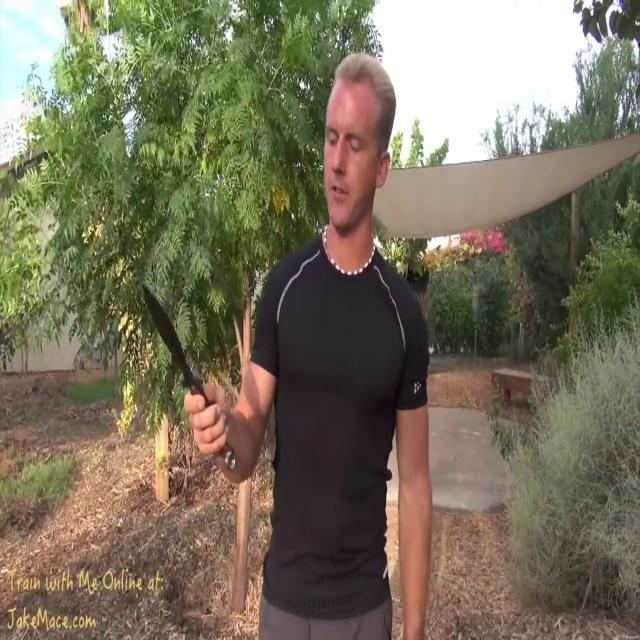knife: (137, 263, 242, 479)
